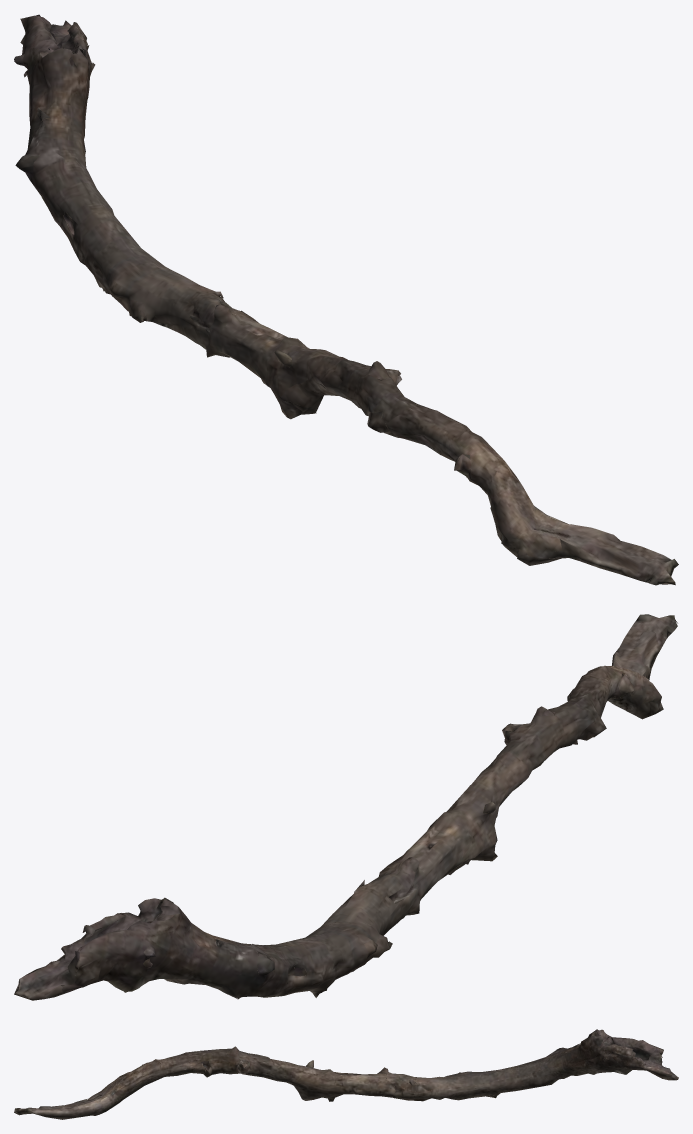
Rendered from dead_branch_2.glb.
The picture shows the model from 3 angles, top to bottom: view 1: azimuth 30°, elevation 25°; view 2: azimuth 150°, elevation 25°; view 3: azimuth 270°, elevation 25°; orthographic projection. The views are drawn at different scales.
Visible parts, largest first — view 1: SCENERY_dead_branch_2; view 2: SCENERY_dead_branch_2; view 3: SCENERY_dead_branch_2.
Boxes of the visible parts, x1,y1,x2,y2 form: SCENERY_dead_branch_2: (14, 14, 678, 585); SCENERY_dead_branch_2: (14, 614, 677, 1000); SCENERY_dead_branch_2: (14, 1029, 678, 1119).
Bounding box in the file's own units: 0.1513 × 0.1421 × 1.04.
1 material, 1 textured.
